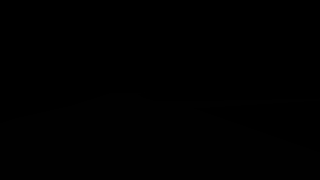turn_right: (221, 41, 244, 65)
